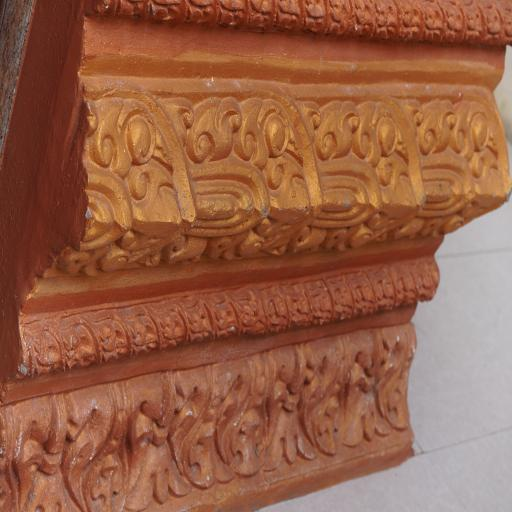la: (181, 76, 320, 267), (67, 84, 186, 286), (314, 82, 424, 275), (423, 84, 512, 242), (349, 325, 421, 446), (65, 387, 133, 512), (125, 376, 187, 512), (0, 399, 73, 512), (221, 357, 277, 485), (178, 367, 233, 486), (266, 350, 316, 472), (310, 344, 349, 460)
